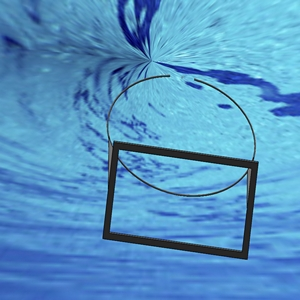circle: (100, 65, 258, 261), (109, 77, 254, 189)
